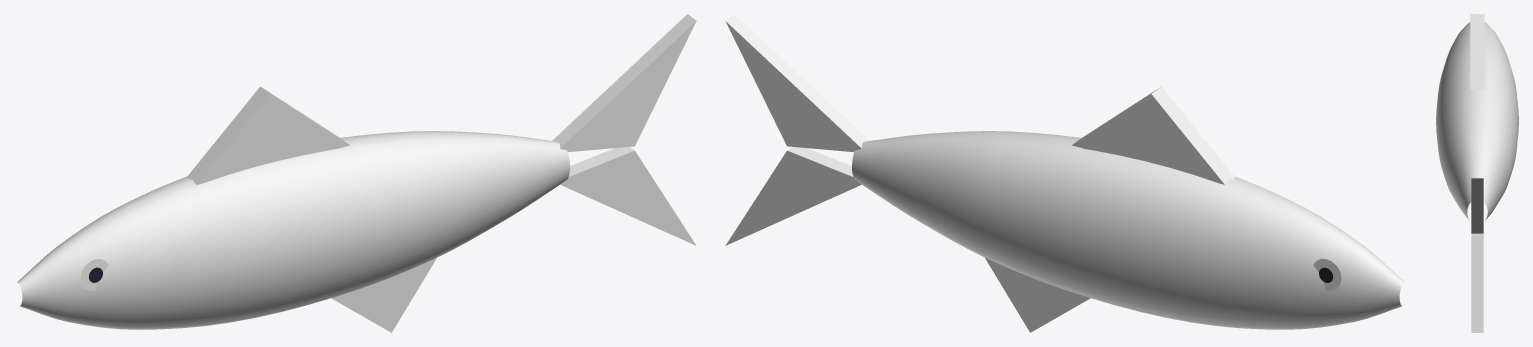
File: stream.glb
3 renders of one model, left to right at view 1: azimuth 30°, elevation 25°; view 2: azimuth 150°, elevation 25°; view 3: azimuth 270°, elevation 25°, orthographic. The views are drawn at different scales.
Visible parts, largest first — view 1: body, tail-pivot; view 2: body, tail-pivot; view 3: body, tail-pivot.
Boxes of the visible parts, x1,y1,x2,y2 form: body: (17,86,569,332); tail-pivot: (552,14,696,245); body: (852,86,1404,332); tail-pivot: (725,14,869,245); body: (1436,14,1518,220); tail-pivot: (1471,178,1483,332).
Size of the model in its own units: 3.38 by 1.29 by 0.5247.
3 materials, 1 textured.
